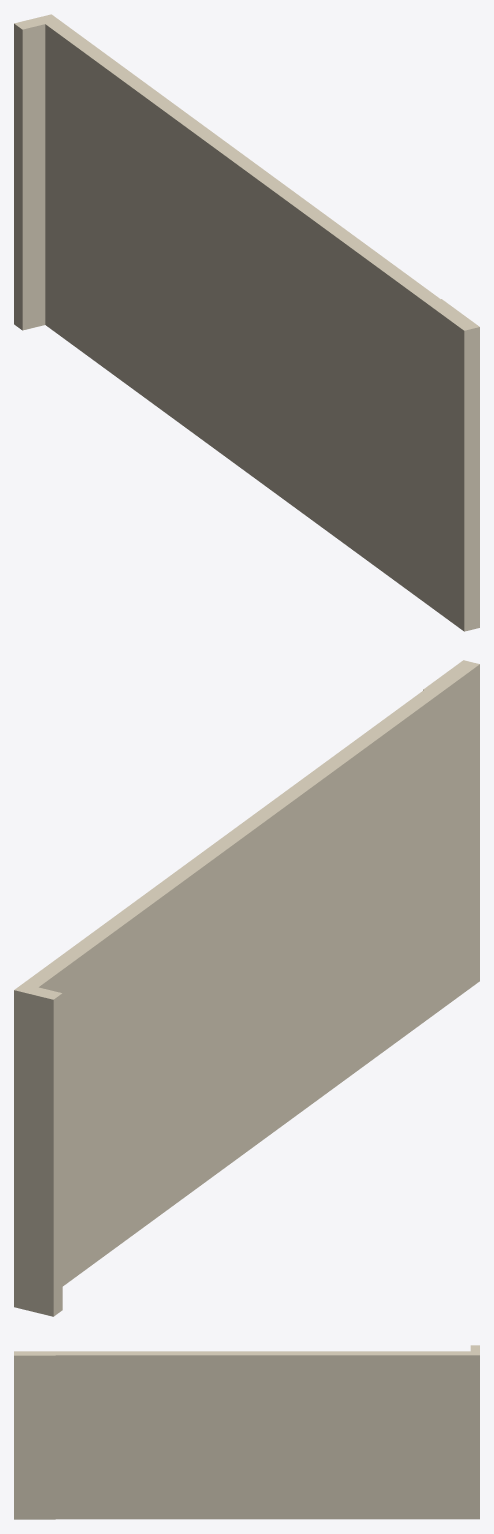
3 views of the same model, one above another, from view 1: azimuth 30°, elevation 25°; view 2: azimuth 150°, elevation 25°; view 3: azimuth 270°, elevation 25° (orthographic). The views are drawn at different scales.
Visible parts, largest first — view 1: B-FF-WALL-022; view 2: B-FF-WALL-022; view 3: B-FF-WALL-022.
Part boxes in pixels (x1,y1,x2,y2): B-FF-WALL-022: [14, 14, 479, 631]; B-FF-WALL-022: [14, 660, 479, 1316]; B-FF-WALL-022: [14, 1345, 479, 1519].
Size of the model in its own units: 0.3241 by 2.42 by 6.23.
